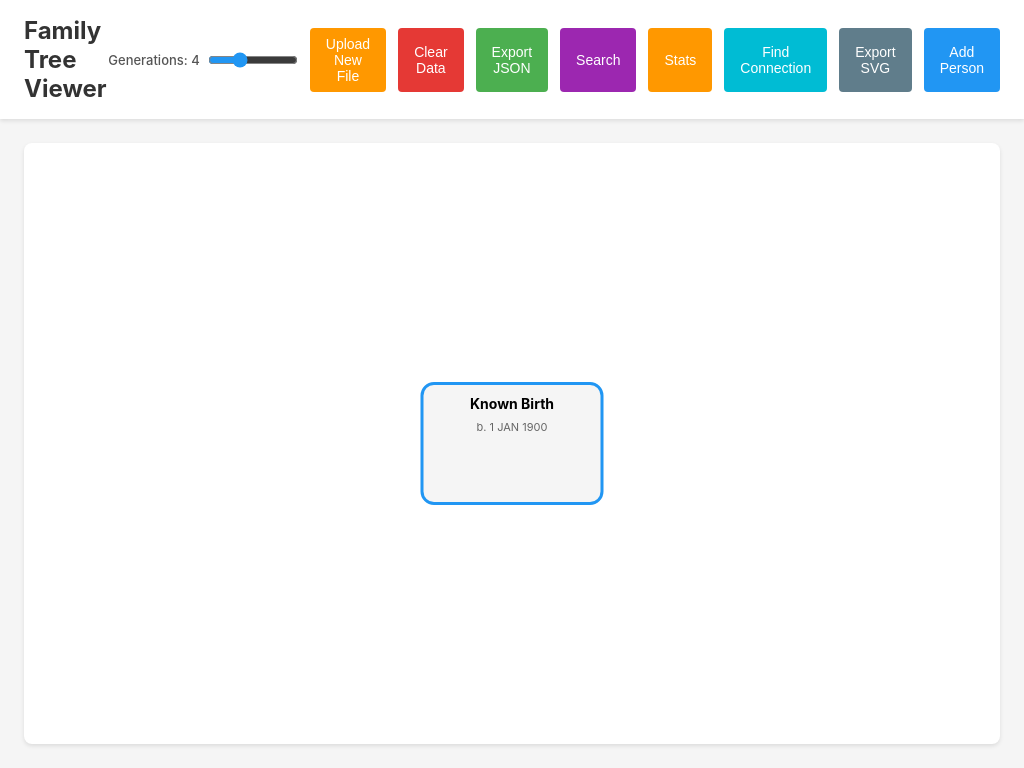
Test: App (component) › search modal › birth year filters › excludes people with no birth date when year filter is active
Click the button with class "search-btn". click: (598, 60)
box: [560,28,636,92]
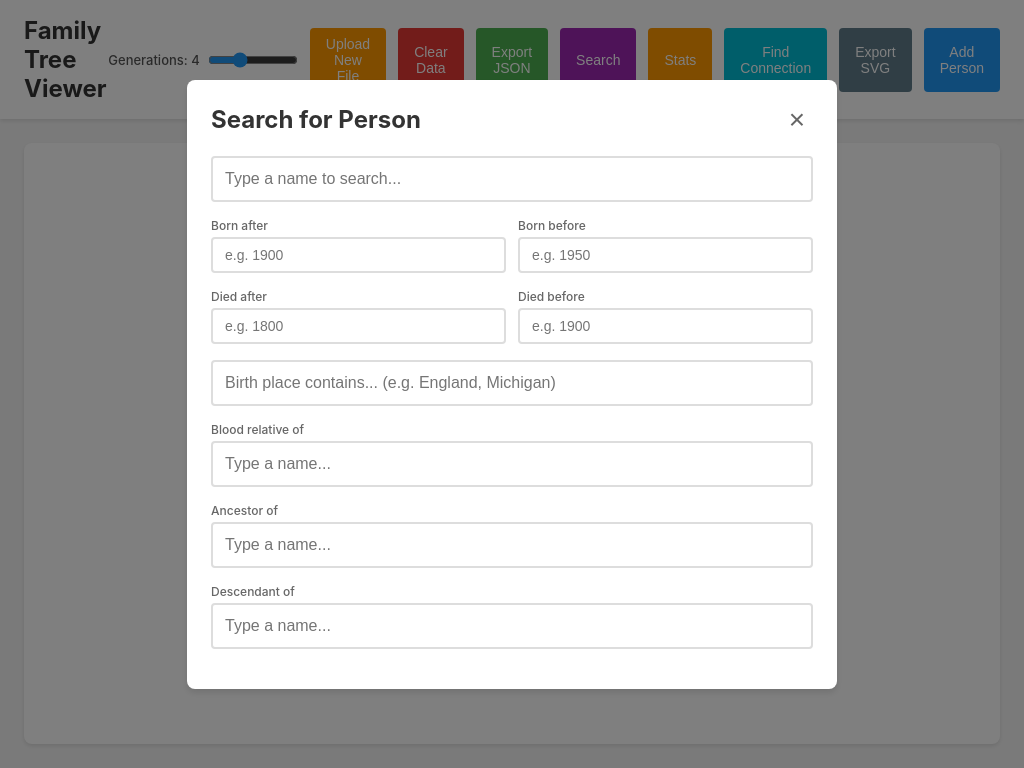
Type "1800" into the number field with class "year-input" below "Born after". click: (358, 254)
box: [211,236,506,272]
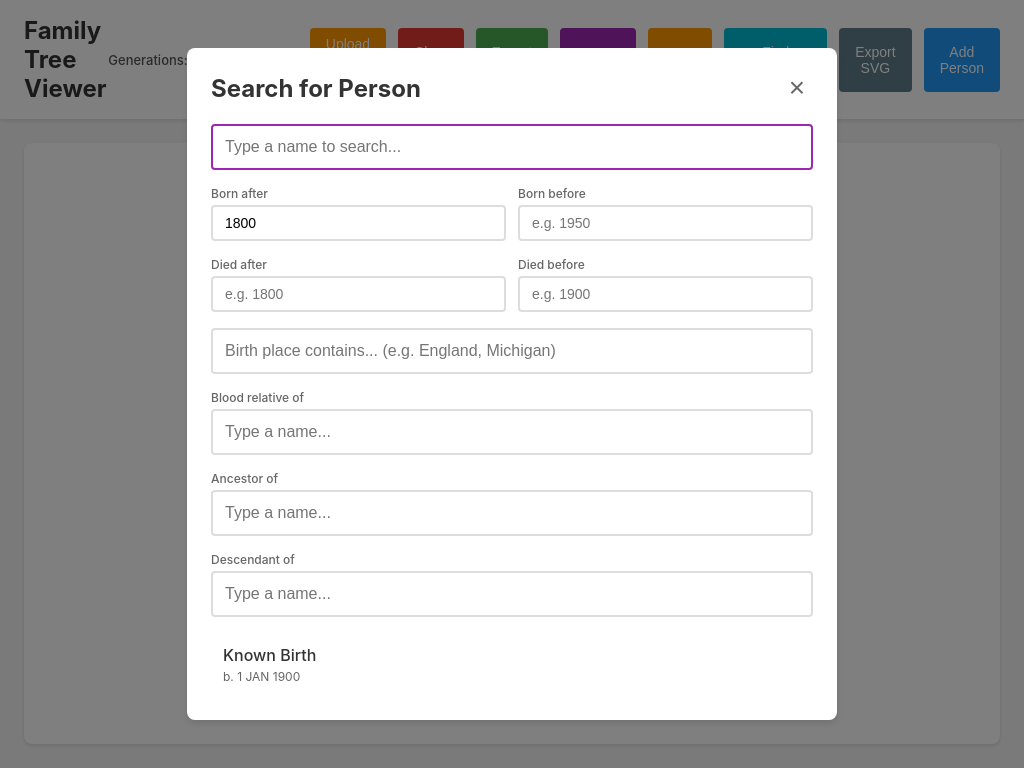
Now the number of elements with class "search-result-item" is 1, box [223,645,316,684]
Now the element with class "search-result-item" shows "Known Birth", box [223,645,316,665]
